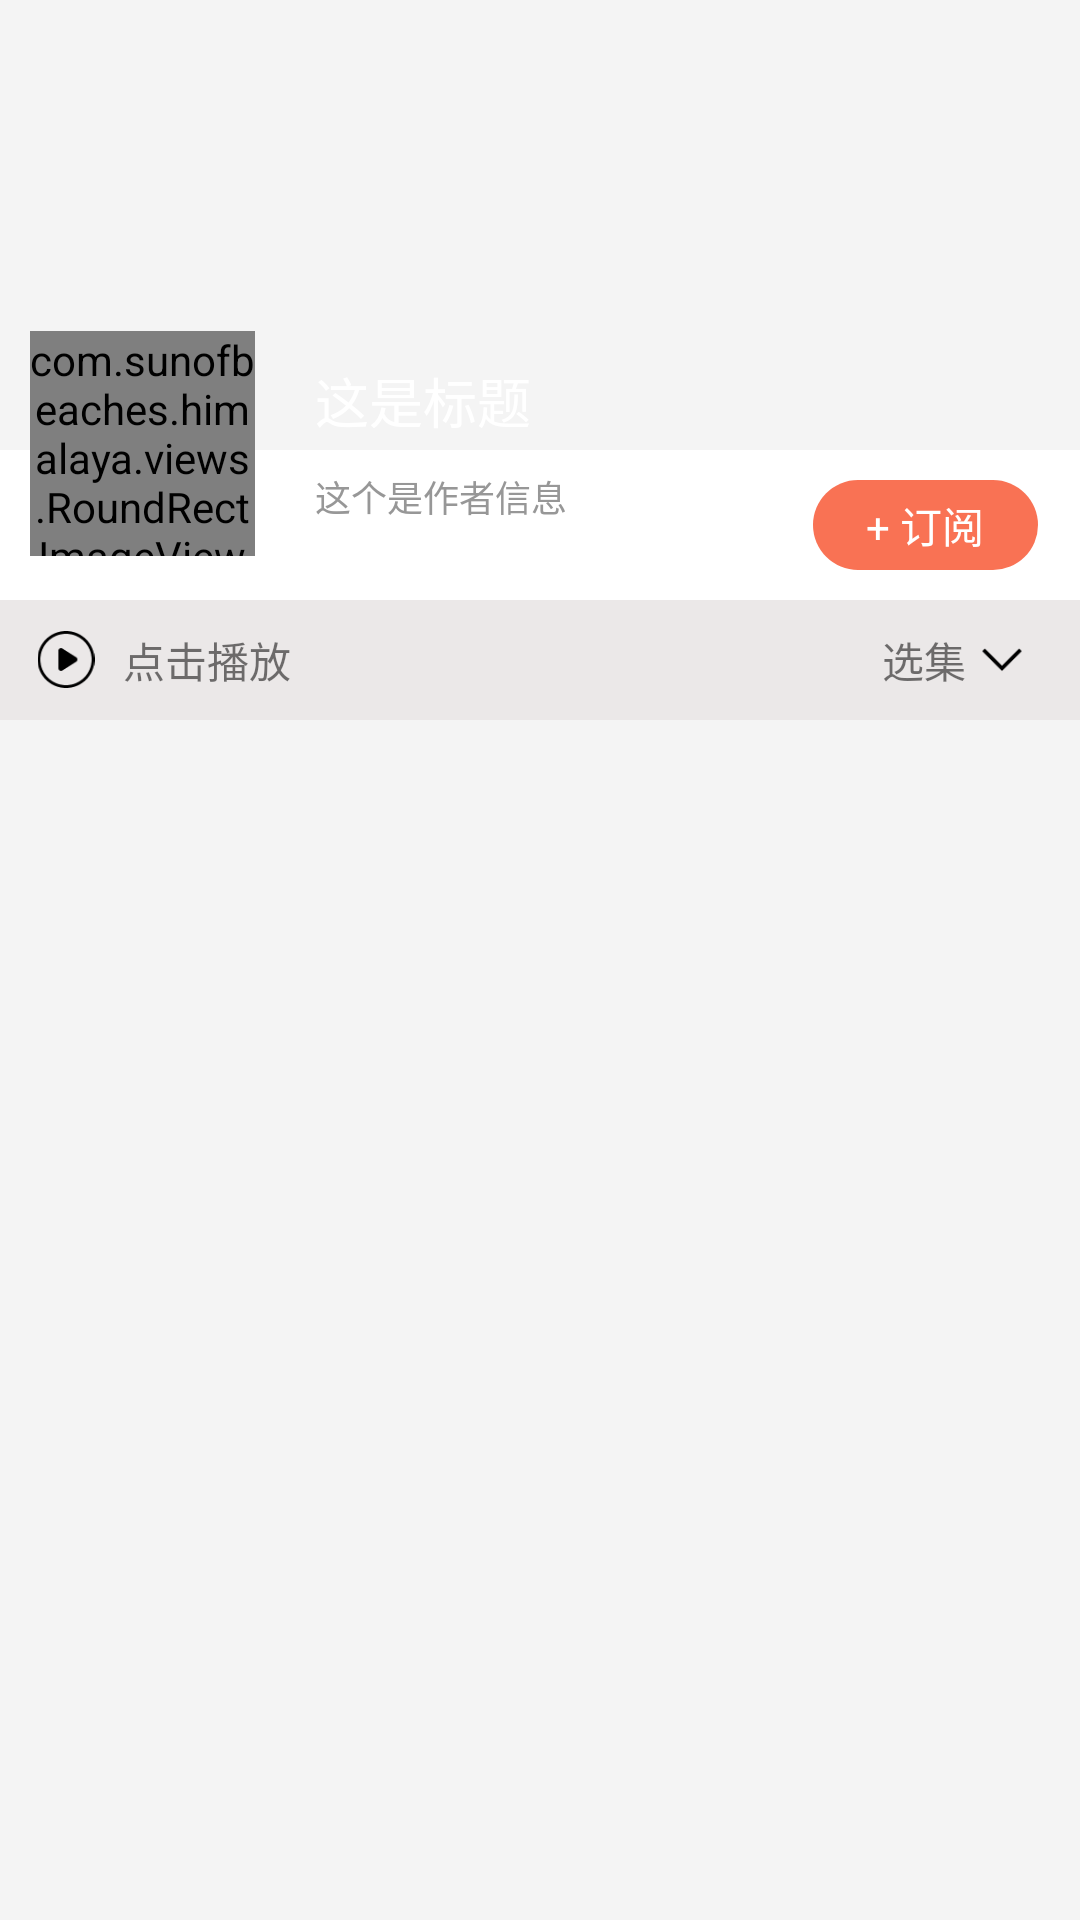

Named icons in this screenshot (1080 × 1920) and their bounding boxes, (x1, y1, x2, y2):
arrow: (982, 648, 1022, 671)
play control: (38, 631, 95, 688)
